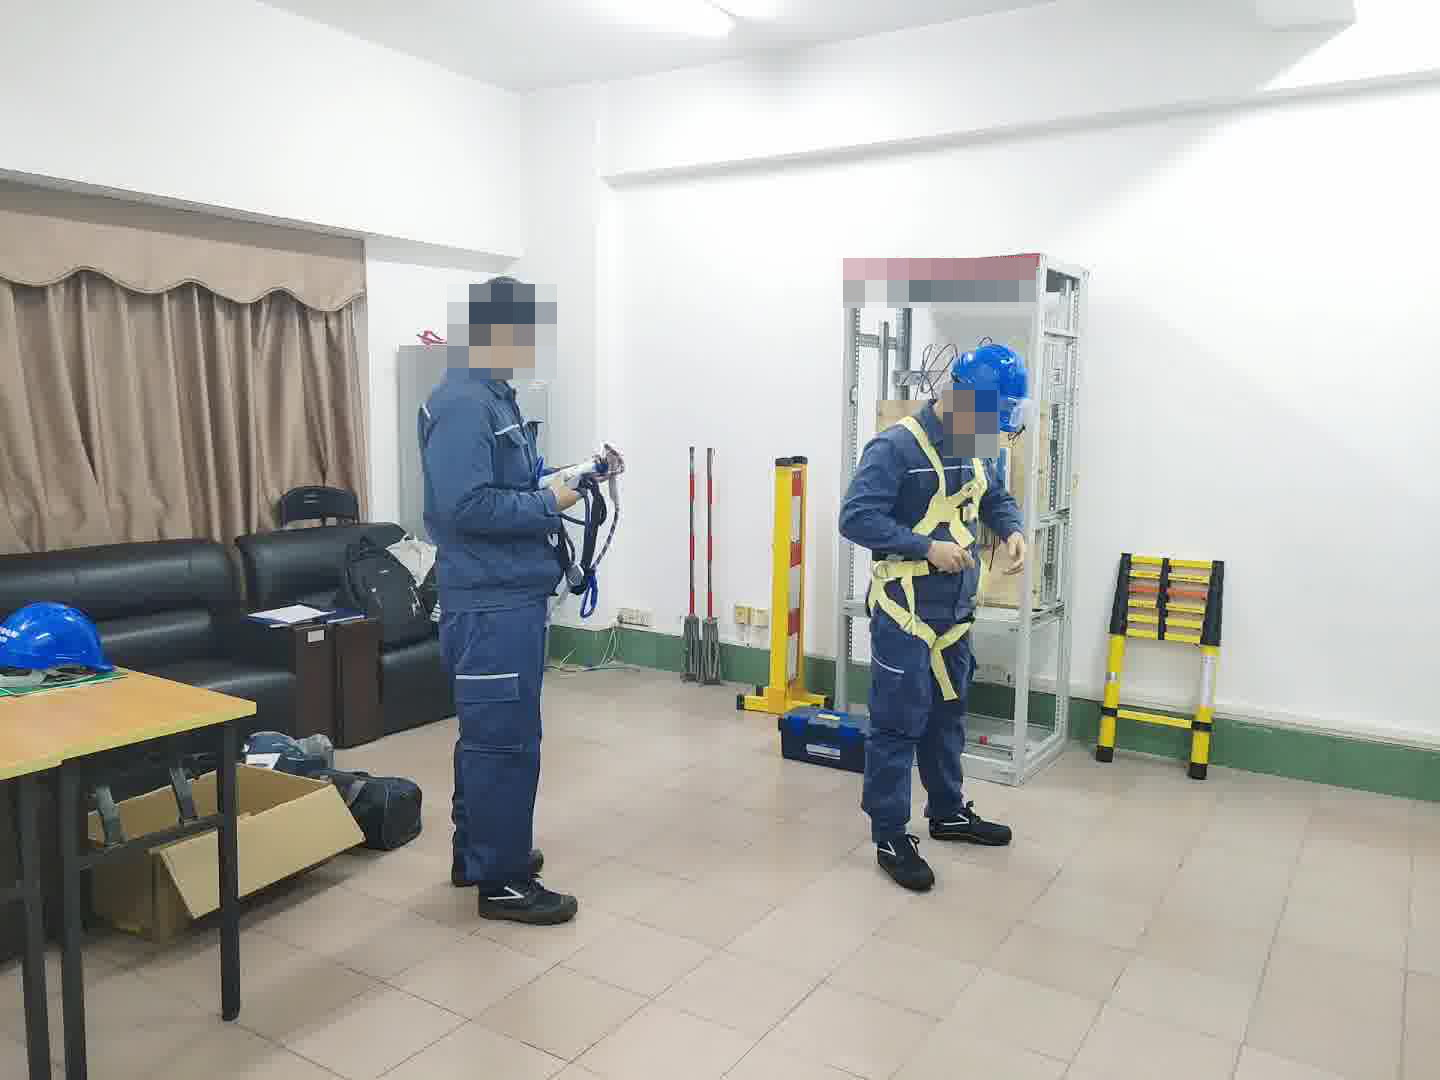downsuit: (437, 618, 553, 884), (860, 614, 972, 831)
halt: (941, 337, 1031, 440)
hand: (926, 540, 979, 577), (1002, 529, 1027, 577), (551, 479, 587, 511)
inear: (945, 380, 973, 431)
noear: (484, 317, 519, 365)
person: (415, 274, 589, 910), (837, 334, 1036, 877)
safebelt: (860, 415, 988, 703)
unhalt: (459, 275, 551, 379)
upsuit: (419, 361, 562, 602), (843, 400, 1027, 584)
